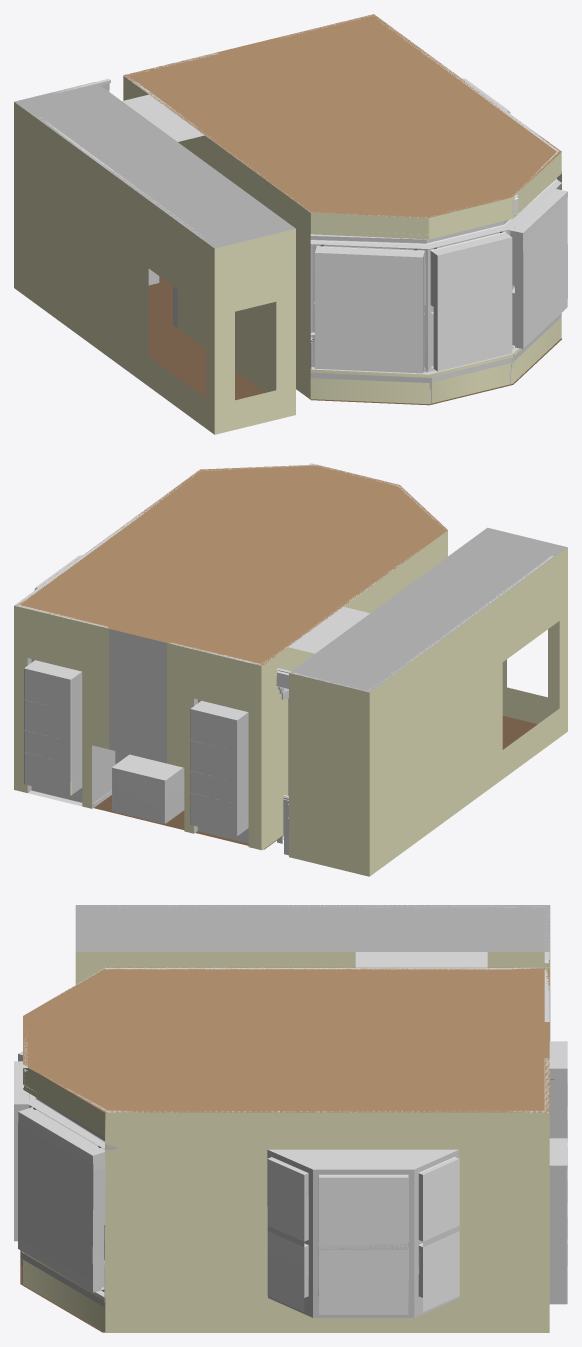
File: Room.fbx
The picture shows the model from 3 angles, top to bottom: view 1: azimuth 30°, elevation 25°; view 2: azimuth 150°, elevation 25°; view 3: azimuth 270°, elevation 25°; orthographic projection. The views are drawn at different scales.
Parts seen in each view (by area): view 1: wallpaper, ceiling, ceilingSideRoom, bigWindowPane1, everythingelse, bigWindowPane2, bigWindowPane3, floors, base_trim_short1, ceilingTrim_BigWindow; view 2: wallpaper, ceiling, everythingelse, ceilingSideRoom, fireplace_inside, floors, fireplace_outside, ceilingTrim_BigWindow; view 3: wallpaper, ceiling, ceilingSideRoom, everythingelse, windowpane_1, bigWindowPane3, windowpane_2, windowpane_3, ceilingTri_Door, base_trim_short2.
Part boxes in pixels (<box>): wallpaper: <box>14,76,561,434</box>; ceiling: <box>123,14,561,217</box>; ceilingSideRoom: <box>14,82,295,248</box>; bigWindowPane1: <box>315,253,422,373</box>; everythingelse: <box>122,78,567,374</box>; bigWindowPane2: <box>437,237,512,371</box>; bigWindowPane3: <box>523,192,567,348</box>; floors: <box>148,276,561,405</box>; base_trim_short1: <box>310,372,431,403</box>; ceilingTrim_BigWindow: <box>374,16,559,214</box>; wallpaper: <box>14,530,567,876</box>; ceiling: <box>15,464,447,665</box>; everythingelse: <box>24,555,369,843</box>; ceilingSideRoom: <box>289,527,567,692</box>; fireplace_inside: <box>112,751,184,823</box>; floors: <box>94,715,537,849</box>; fireplace_outside: <box>92,745,115,808</box>; ceilingTrim_BigWindow: <box>14,464,318,605</box>; wallpaper: <box>23,952,550,1332</box>; ceiling: <box>23,967,549,1112</box>; ceilingSideRoom: <box>75,905,550,951</box>; everythingelse: <box>14,952,567,1317</box>; windowpane_1: <box>319,1177,408,1314</box>; bigWindowPane3: <box>18,1112,93,1292</box>; windowpane_2: <box>267,1159,304,1311</box>; windowpane_3: <box>423,1159,459,1311</box>; ceilingTri_Door: <box>105,967,549,969</box>; base_trim_short2: <box>20,1252,104,1307</box>.
Bounding box in the file's own units: 617 × 301 × 628.
